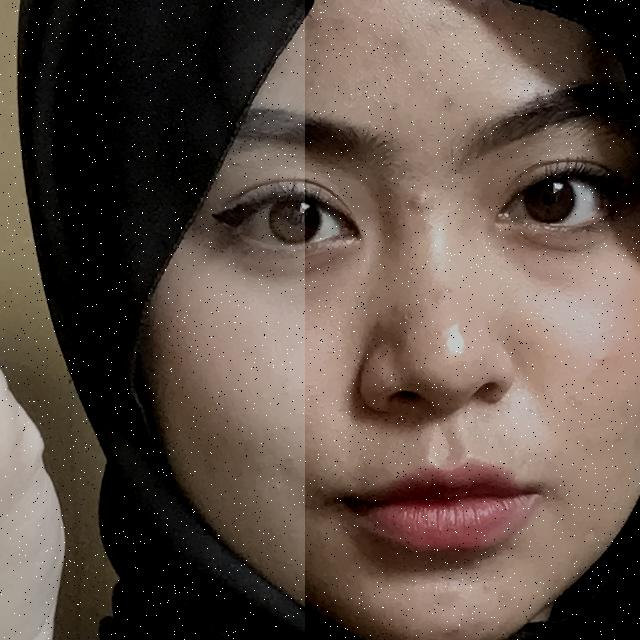kapan: (0, 0, 305, 640)
